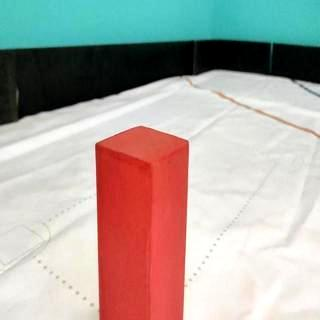redbox: (94, 126, 188, 320)
